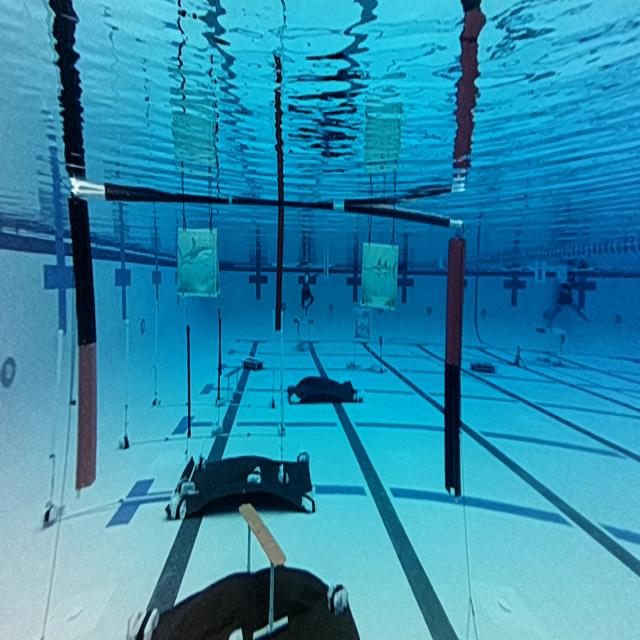pointed_nose: (362, 235, 400, 308)
round_nose: (175, 221, 221, 305)
